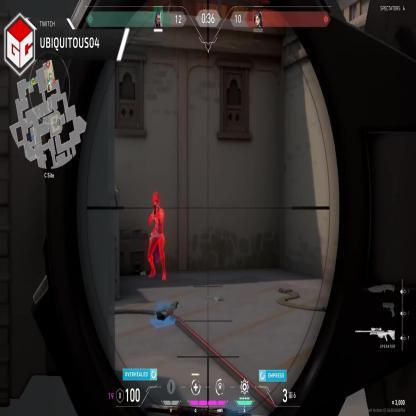enemy: (146, 192, 165, 279)
enemy_head: (152, 192, 160, 210)
